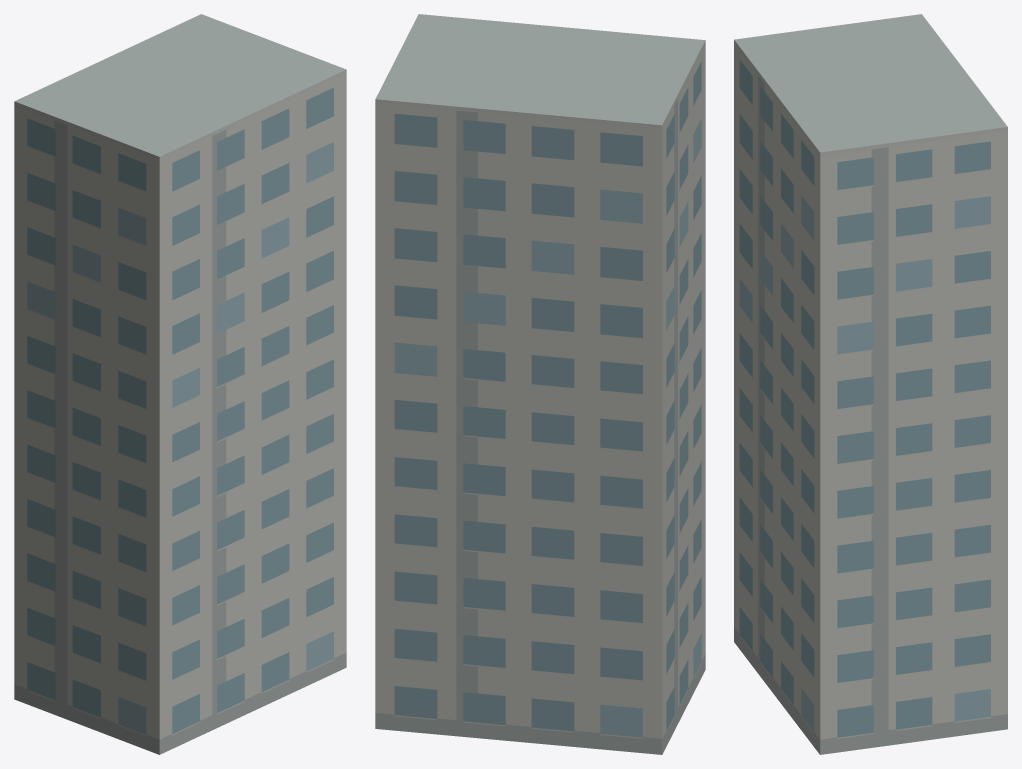
File: residential-feaed86e-3bcf-4cbc-a617-d1ec031799f5.glb
3 renders of one model, left to right at view 1: azimuth 30°, elevation 25°; view 2: azimuth 150°, elevation 25°; view 3: azimuth 270°, elevation 25°, orthographic. The views are drawn at different scales.
Visible parts, largest first — view 1: residential-feaed86e-3bcf-4cbc-a617-d1ec031799f5.tmp; view 2: residential-feaed86e-3bcf-4cbc-a617-d1ec031799f5.tmp; view 3: residential-feaed86e-3bcf-4cbc-a617-d1ec031799f5.tmp.
Part boxes in pixels (bbox=[...]): residential-feaed86e-3bcf-4cbc-a617-d1ec031799f5.tmp: bbox=[14, 14, 346, 754]; residential-feaed86e-3bcf-4cbc-a617-d1ec031799f5.tmp: bbox=[375, 14, 705, 754]; residential-feaed86e-3bcf-4cbc-a617-d1ec031799f5.tmp: bbox=[734, 14, 1007, 754].
Size of the model in its own units: 18.75 by 38 by 15.66.
